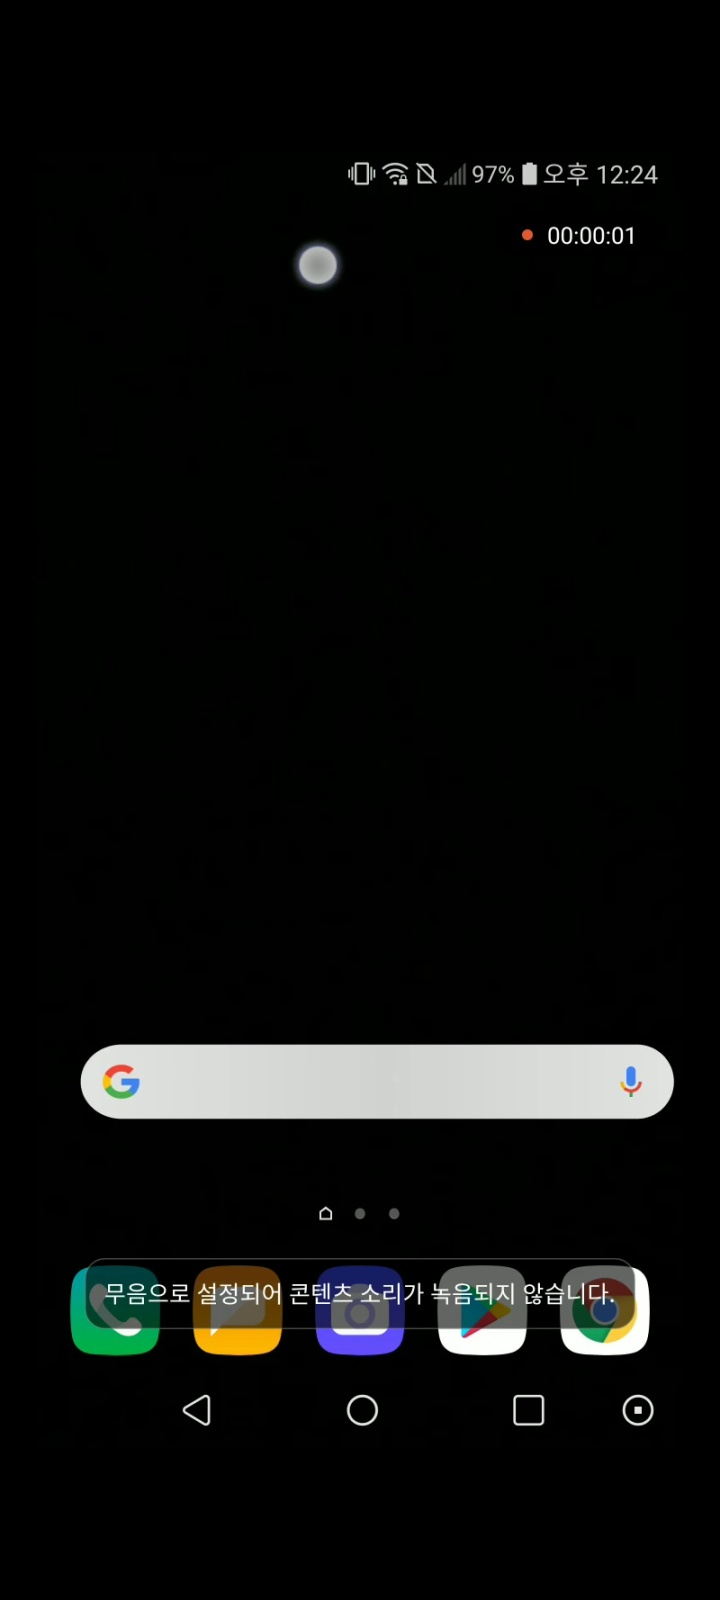Cursor: (296, 244, 341, 289)
